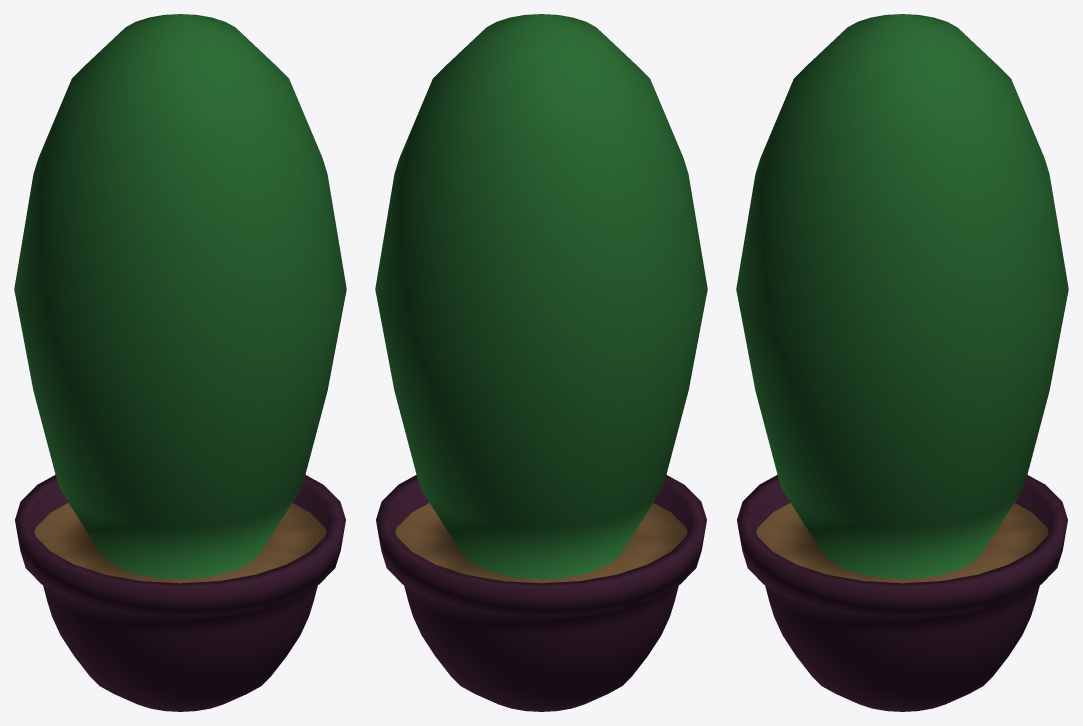
Rendered from saboten_test.dae.
The picture shows the model from 3 angles, left to right: view 1: azimuth 30°, elevation 25°; view 2: azimuth 150°, elevation 25°; view 3: azimuth 270°, elevation 25°; orthographic projection.
Visible parts, largest first — view 1: Saboten_test; view 2: Saboten_test; view 3: Saboten_test.
Boxes of the visible parts, x1,y1,x2,y2 form: Saboten_test: (14,14,346,711); Saboten_test: (375,14,707,711); Saboten_test: (736,14,1068,711).
Bounding box in the file's own units: 0.2282 × 0.5184 × 0.2282.
Materials: 1 (1 with a texture image).
